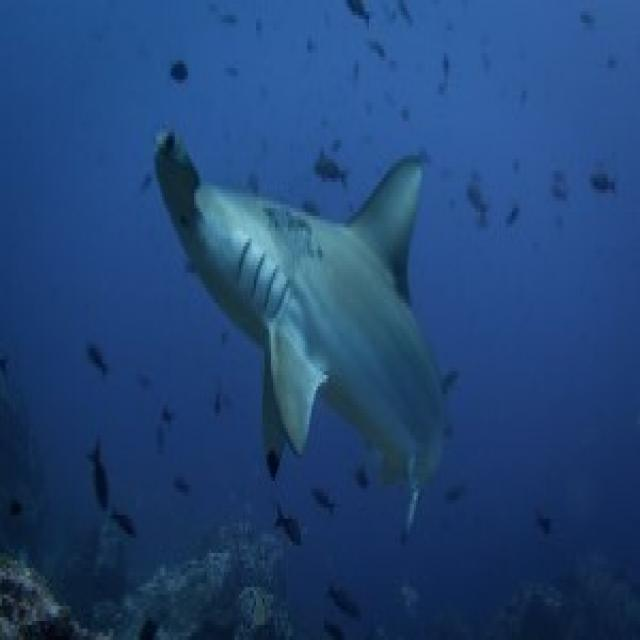Shark: (144, 108, 473, 566)
